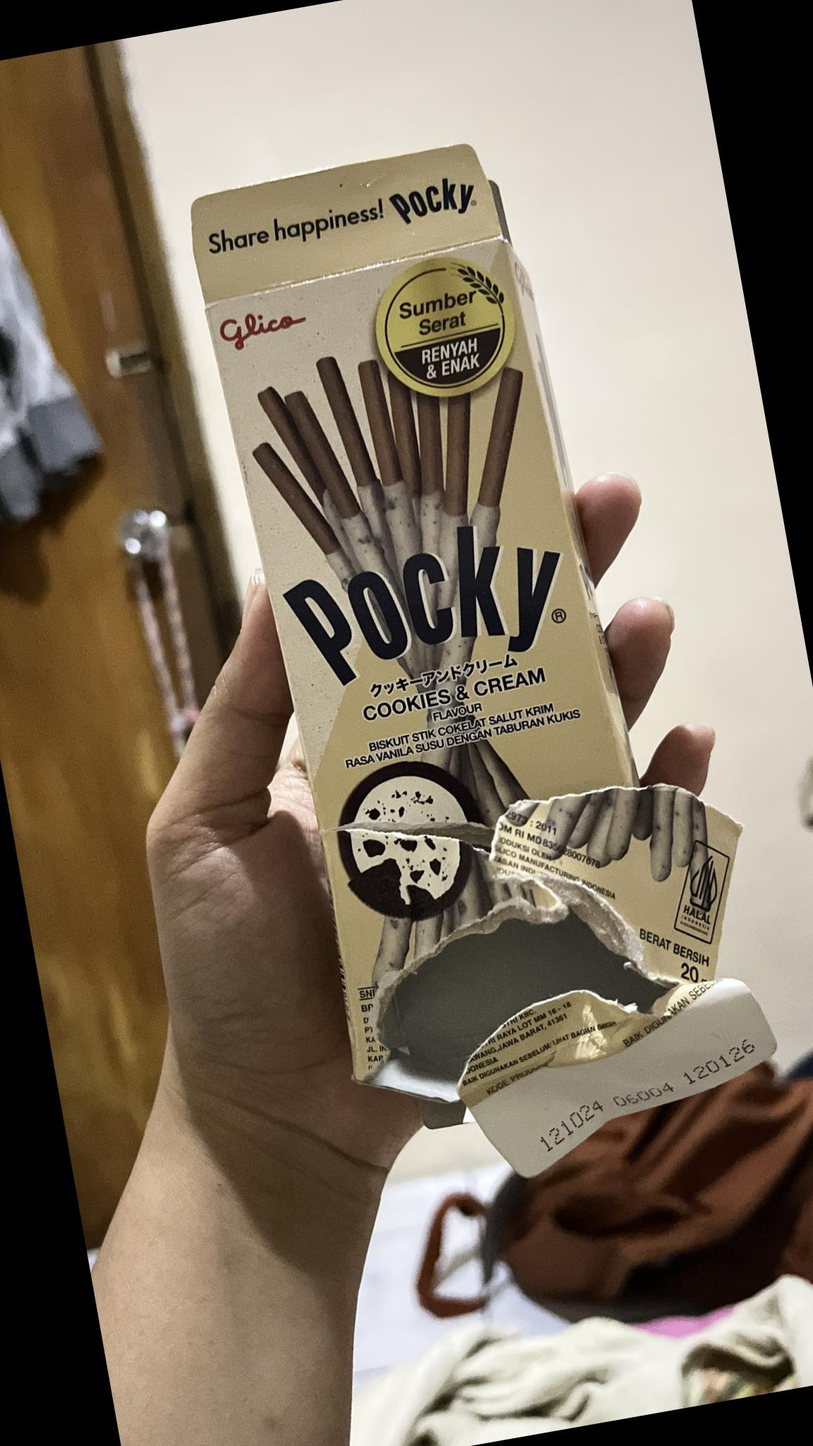Kertas: (204, 242, 683, 1075)
